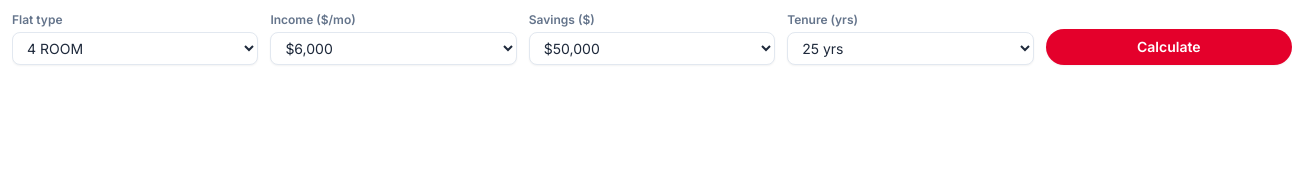
FilterNav › shows a validation error when submitting without any selected towns
This screenshot has width=1304, height=172.
What coordinates should you click on to do the following:
click the button "Calculate"
I would click on:
 (1169, 47)
Its box is left=1046, top=29, right=1292, bottom=65.
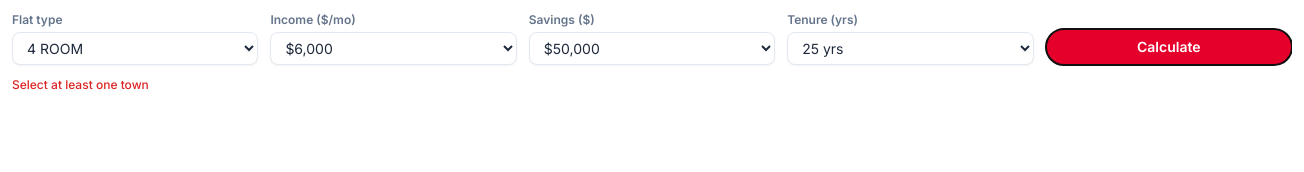
Expected: the text "Select at least one town" is shown, left=12, top=77, right=149, bottom=92
